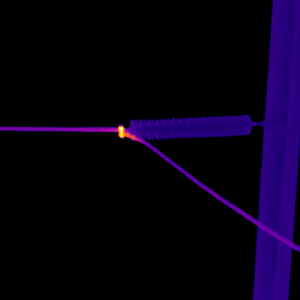insulator: (126, 113, 251, 138)
